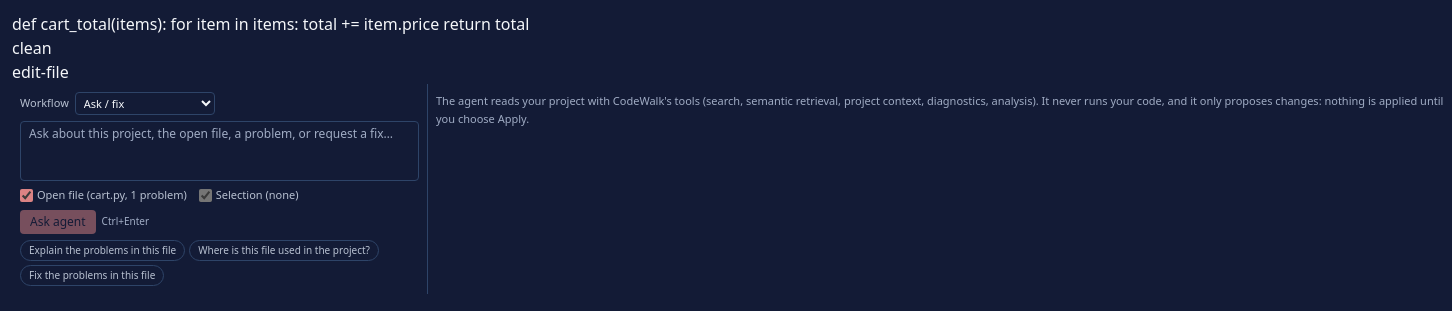
Test: Agent panel › shows provider off states
The width and height of the screenshot is (1452, 311).
In the text box named "Ask about your project": (220, 151) x1=20 y1=121 x2=419 y2=181, type "Why?"
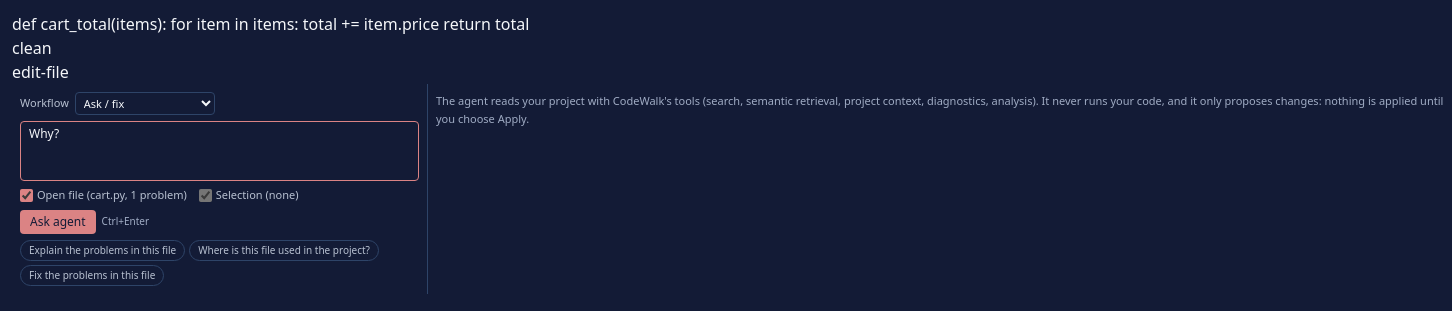
Click the button "Ask agent": (58, 222) x1=20 y1=210 x2=96 y2=234
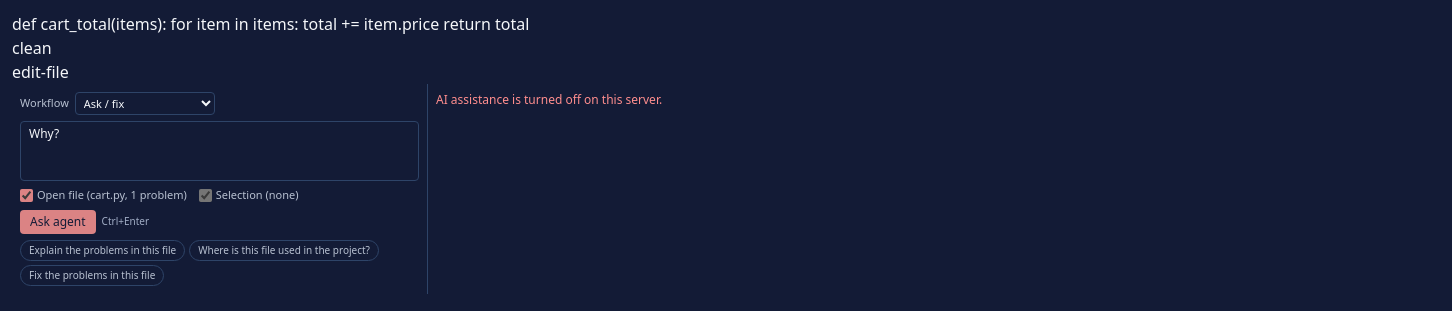
Check: the button "Ask agent" is enabled, box x1=20 y1=210 x2=96 y2=234
Check: the message shows "turned off", box x1=436 y1=91 x2=662 y2=108
